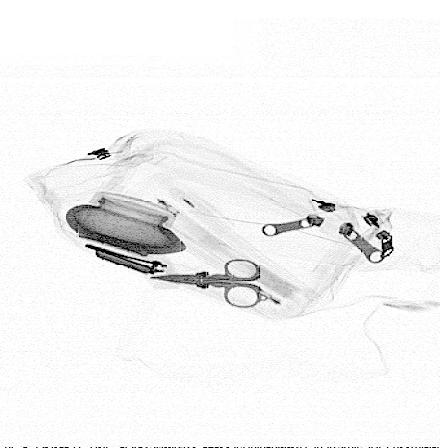Scissors: (145, 256, 266, 308)
